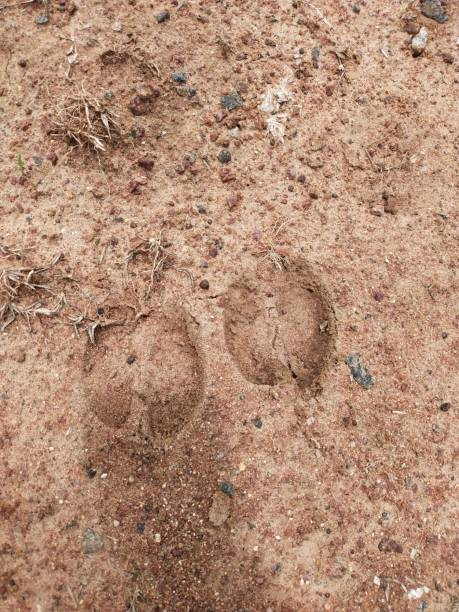animal_foot_print: (83, 305, 202, 438), (224, 261, 334, 393)
